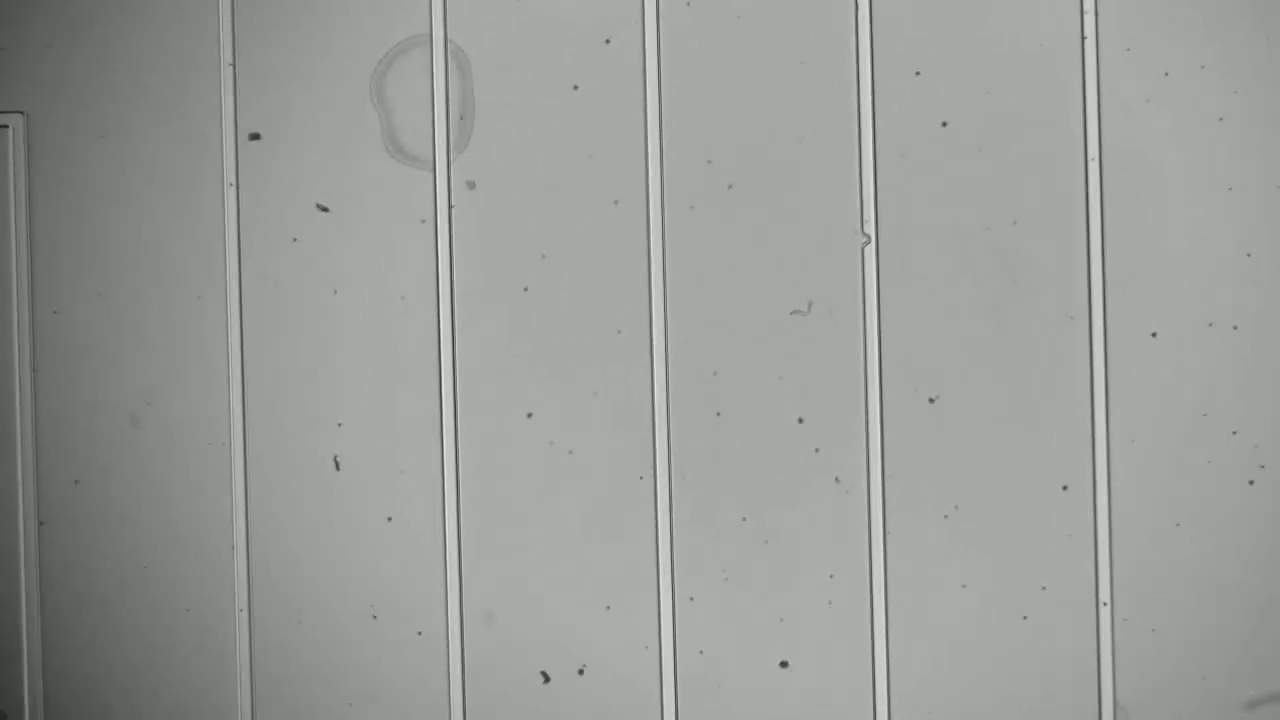edge_bite: (851, 222, 884, 256)
